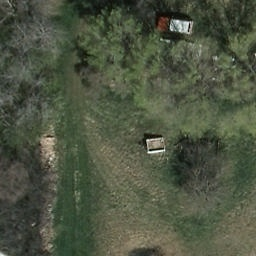car: (157, 17, 196, 34)
